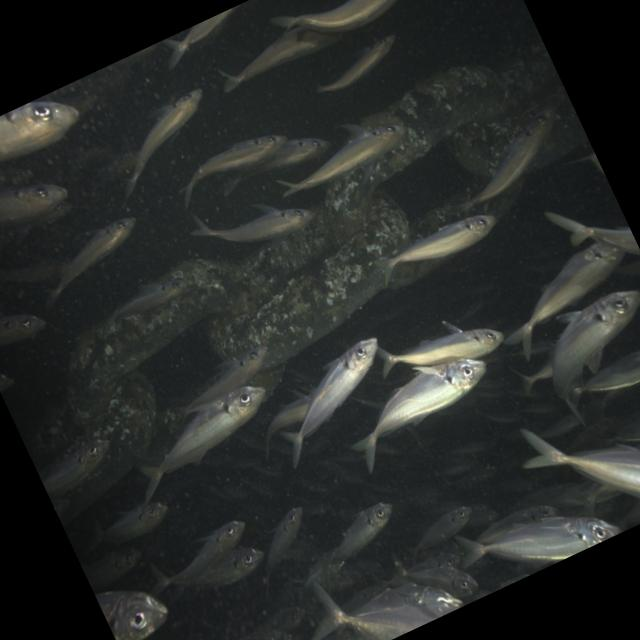ChainLink: (210, 195, 410, 367), (324, 65, 506, 241), (68, 260, 239, 420), (33, 371, 156, 525), (452, 42, 588, 178), (410, 176, 486, 241), (140, 407, 187, 466), (473, 180, 522, 219), (391, 259, 441, 286), (250, 368, 281, 396)
